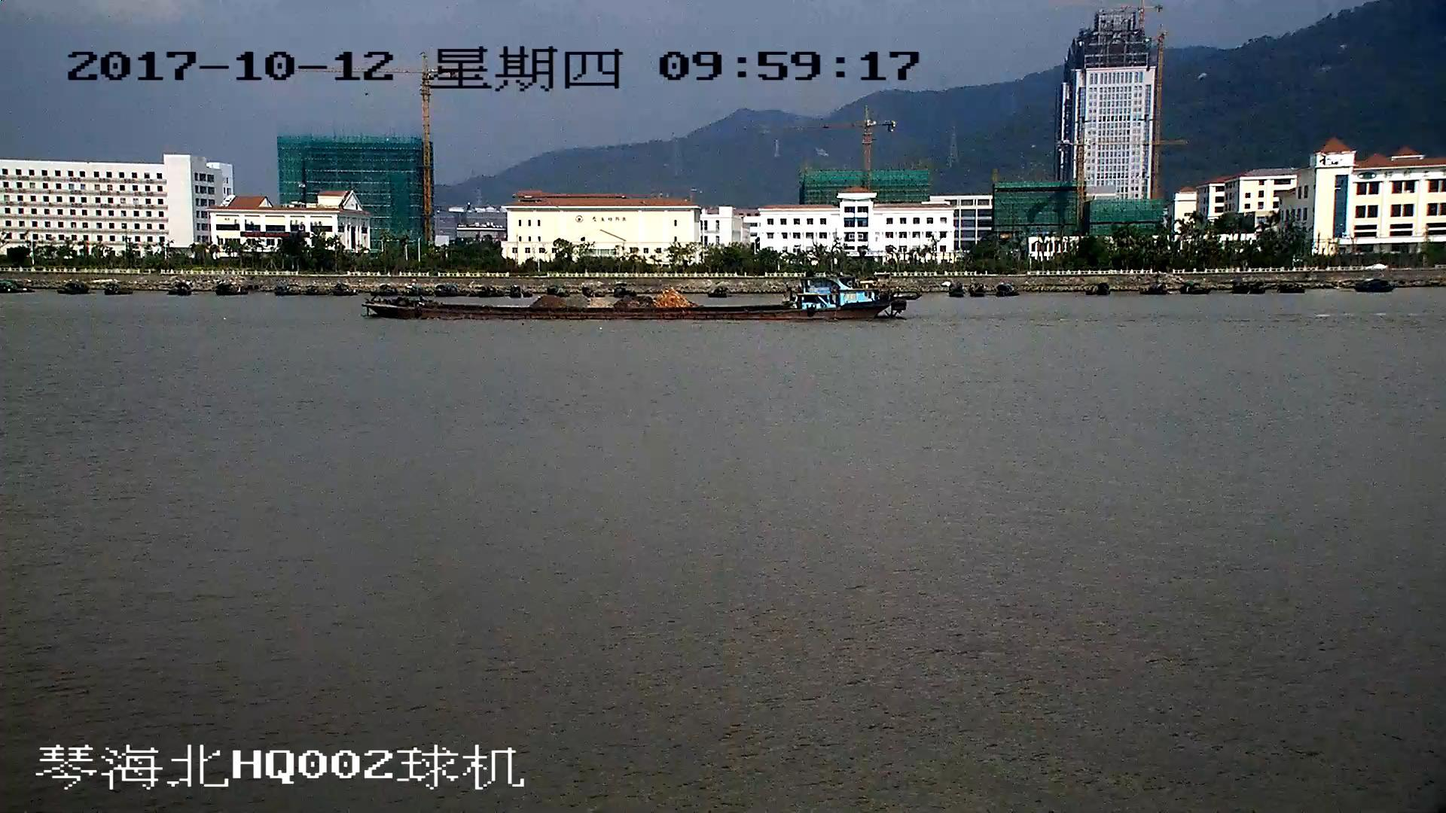ore carrier: (368, 272, 904, 320)
